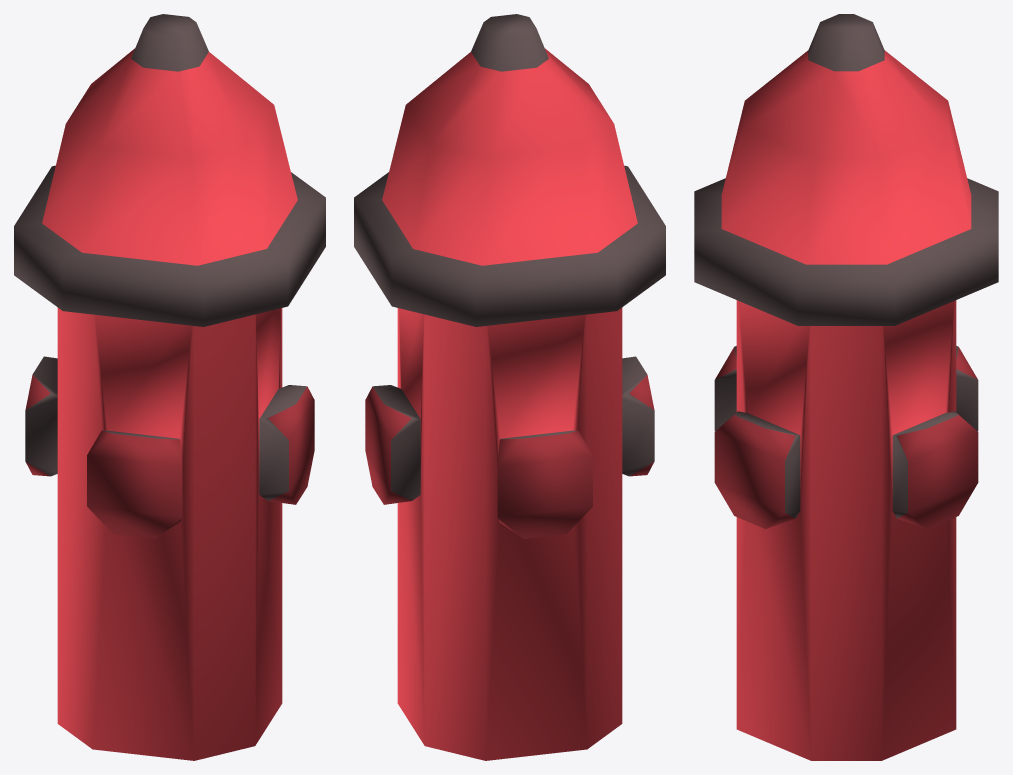
Rendered from ExtinguishStreetFires.fbx.
3 views of the same model, side by side, from view 1: azimuth 30°, elevation 25°; view 2: azimuth 150°, elevation 25°; view 3: azimuth 270°, elevation 25° (orthographic).
Visible parts, largest first — view 1: Plane.001; view 2: Plane.001; view 3: Plane.001.
Part boxes in pixels (<box>): Plane.001: <box>14,14,325,760</box>; Plane.001: <box>354,14,665,760</box>; Plane.001: <box>694,14,998,760</box>.
Bounding box in the file's own units: 0.4511 × 1.13 × 0.4511.
